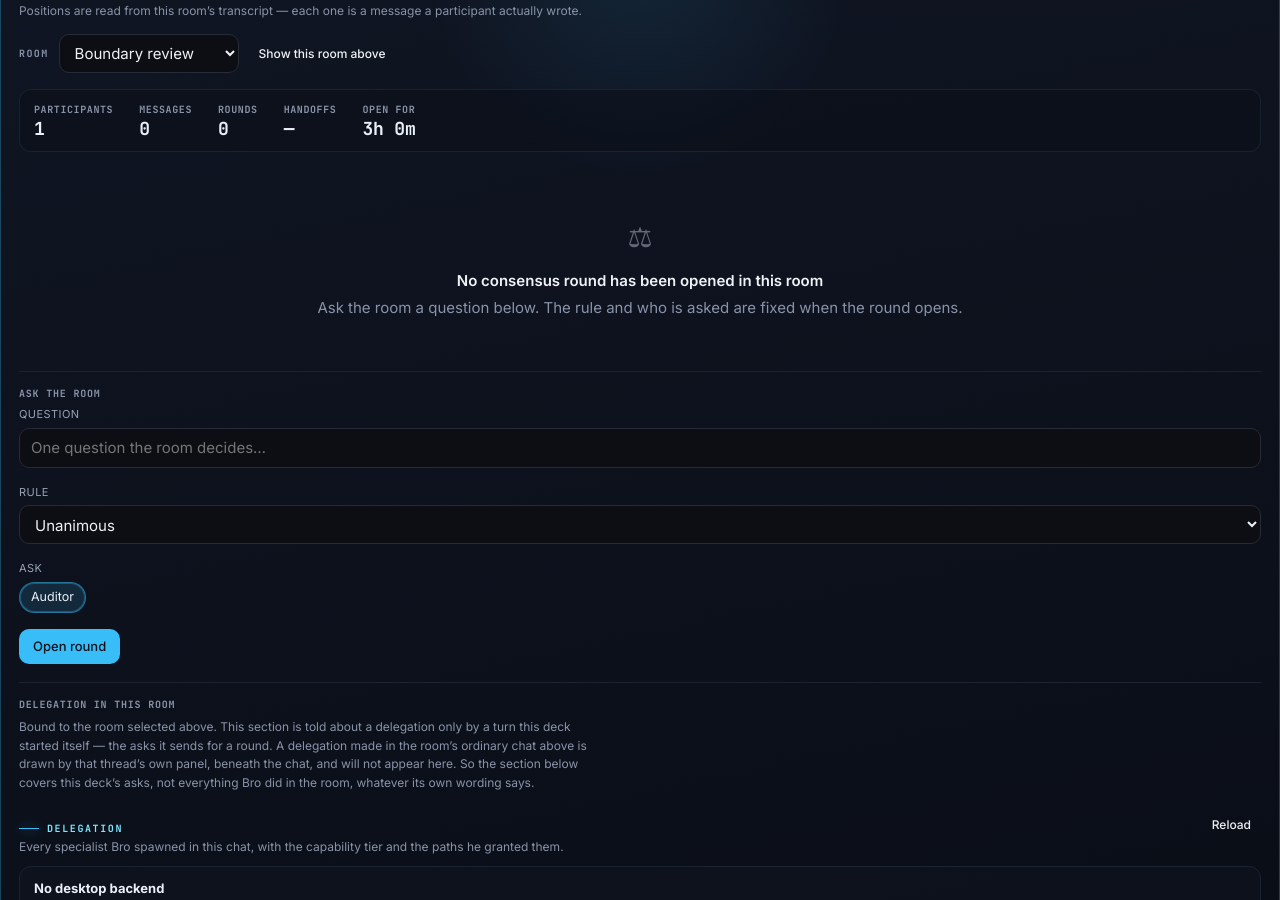
Test case: GroupChat — handoffs after this room's asks have run › an ask that failed ran no turn either
(page scrolled)
Type "Ship it?" into the field labelled "Question".
click(640, 448); type("Ship it?")  # box [19,428,1261,468]
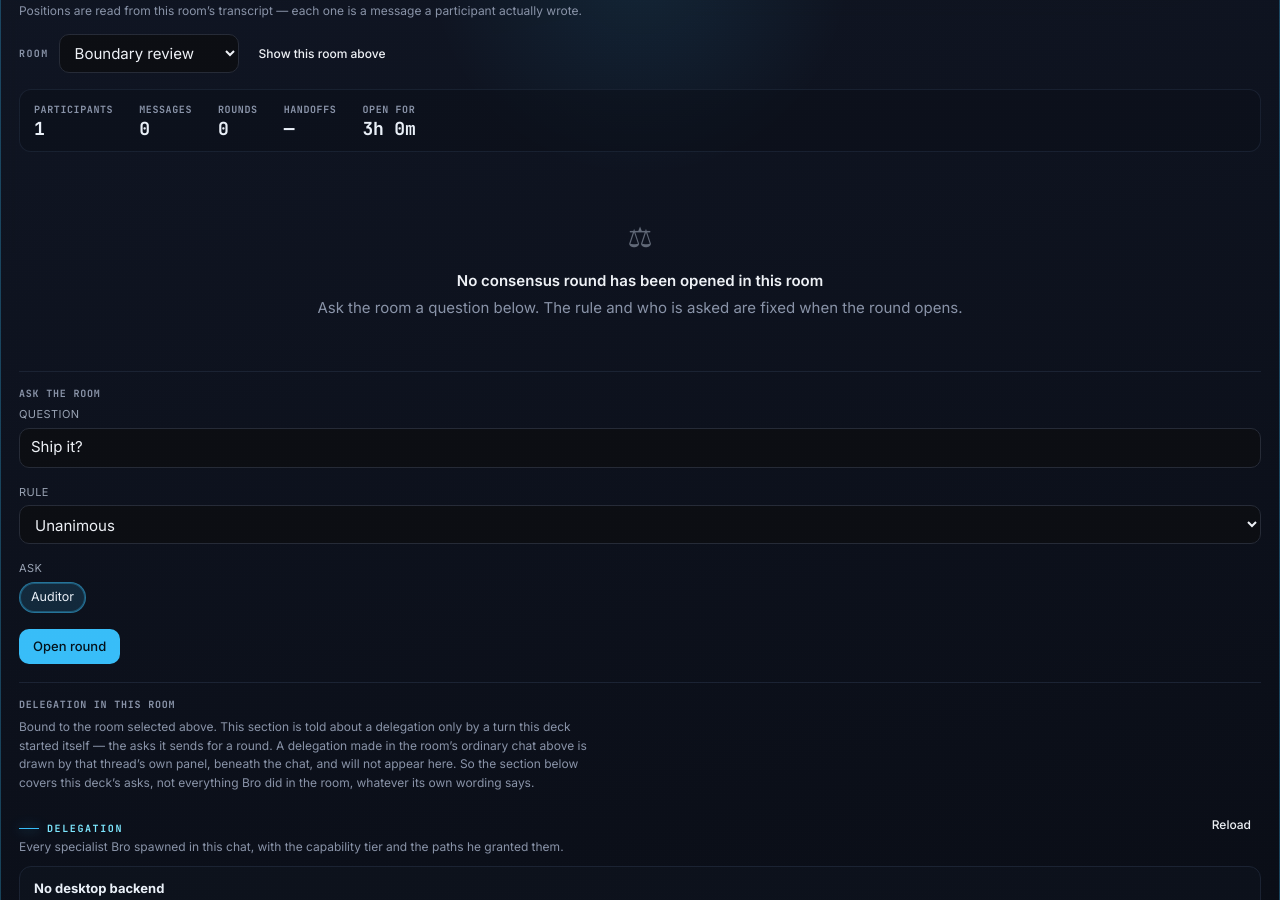
Click the button "Open round".
click(70, 646)  # box [19,629,120,664]
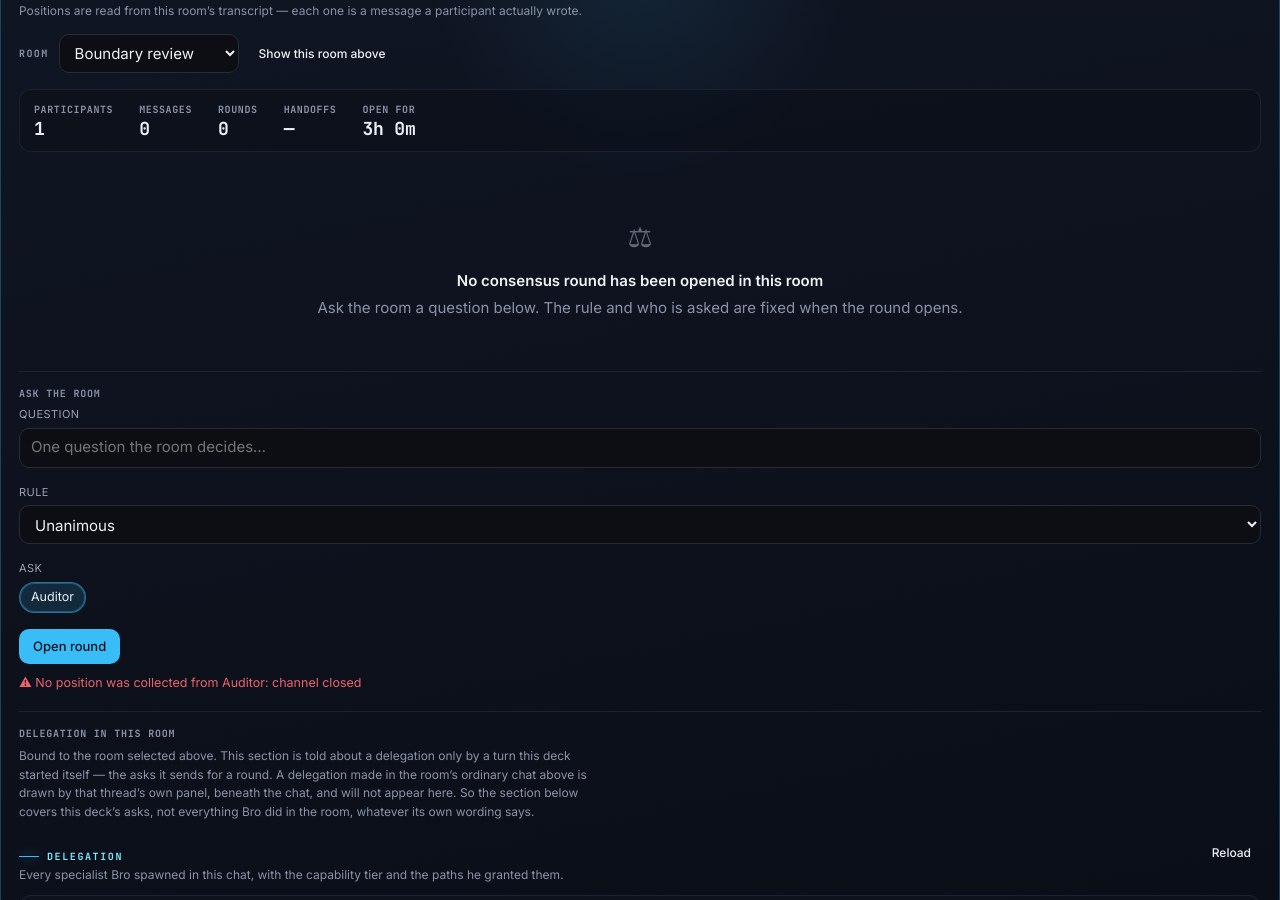
Result: the list item "⚠ No position was collected from Auditor: channel closed" is shown at [19,675,361,690]
